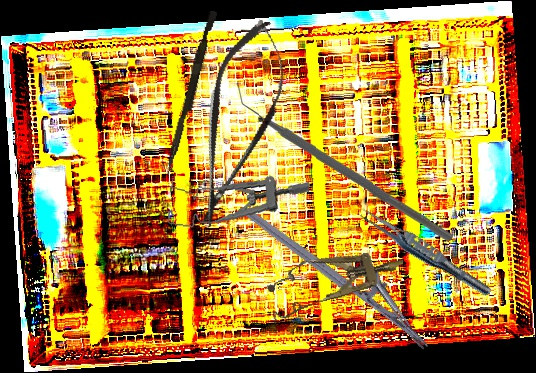Chopper: (233, 81, 456, 241)
Micro Scissor: (172, 11, 303, 237)
Needle Holder: (242, 181, 449, 353)
Pusher: (164, 9, 218, 177)
Speculum: (261, 236, 410, 324), (165, 163, 311, 242)
Tissue Forceps: (352, 202, 497, 301)
